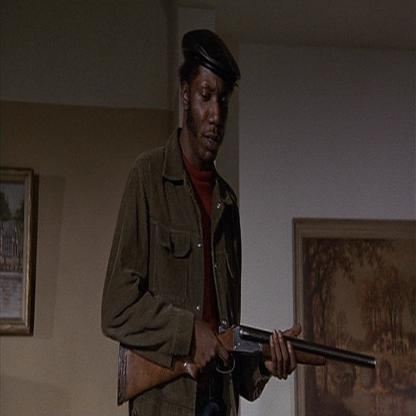gun: (117, 304, 385, 401)
